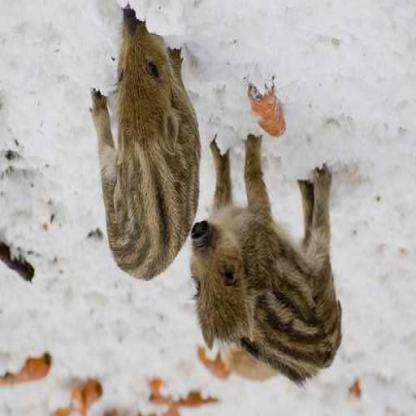boar: (185, 131, 375, 380), (77, 17, 203, 291)
